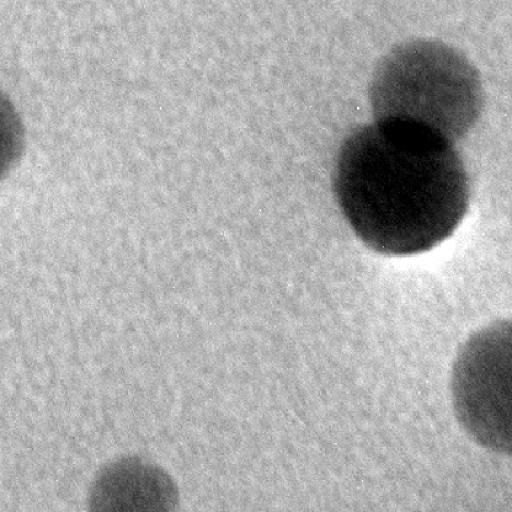Nanoparticles: (327, 112, 469, 264), (362, 34, 480, 154), (449, 314, 512, 458), (88, 453, 182, 512), (0, 92, 31, 185)
